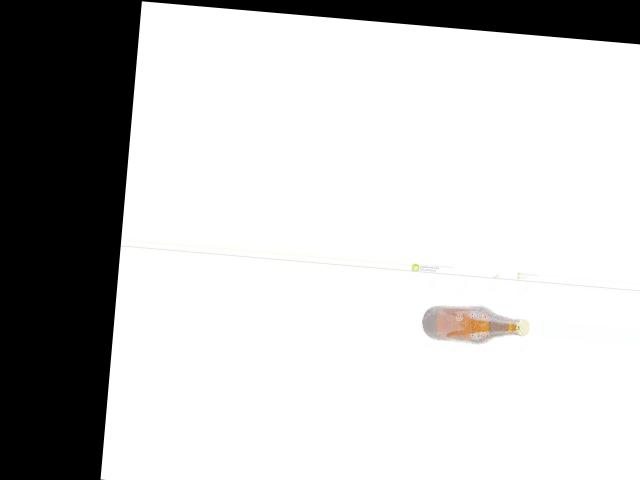beer: (421, 300, 530, 348)
